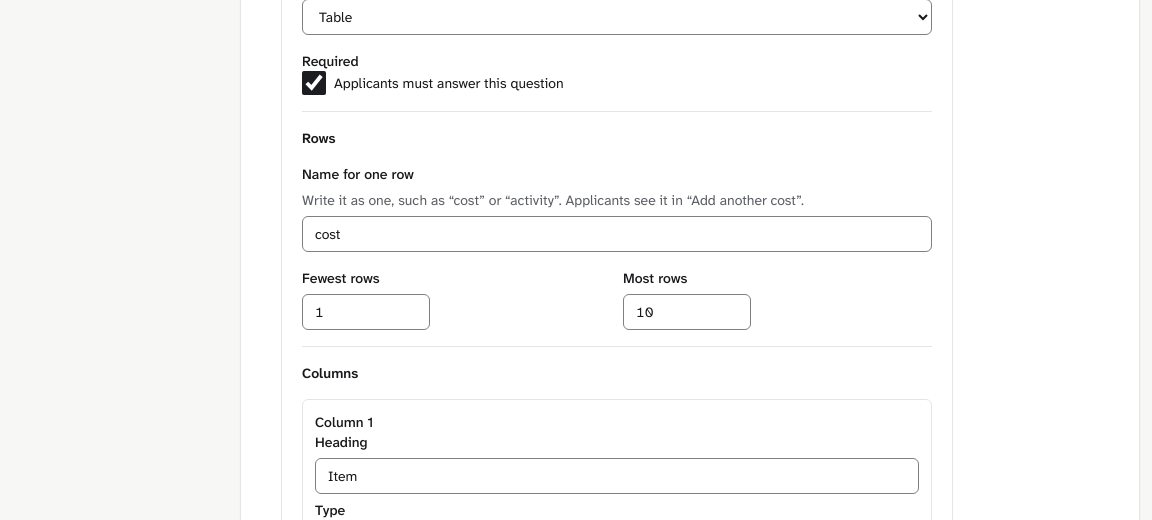
Scenario: the settings of a table › are changed, and sent with the columns under the ids they were made with
This screenshot has width=1152, height=520.
(page scrolled)
Replace the text in the field labelled "Name for one row" with "activity": (617, 234) [302,216,932,252]
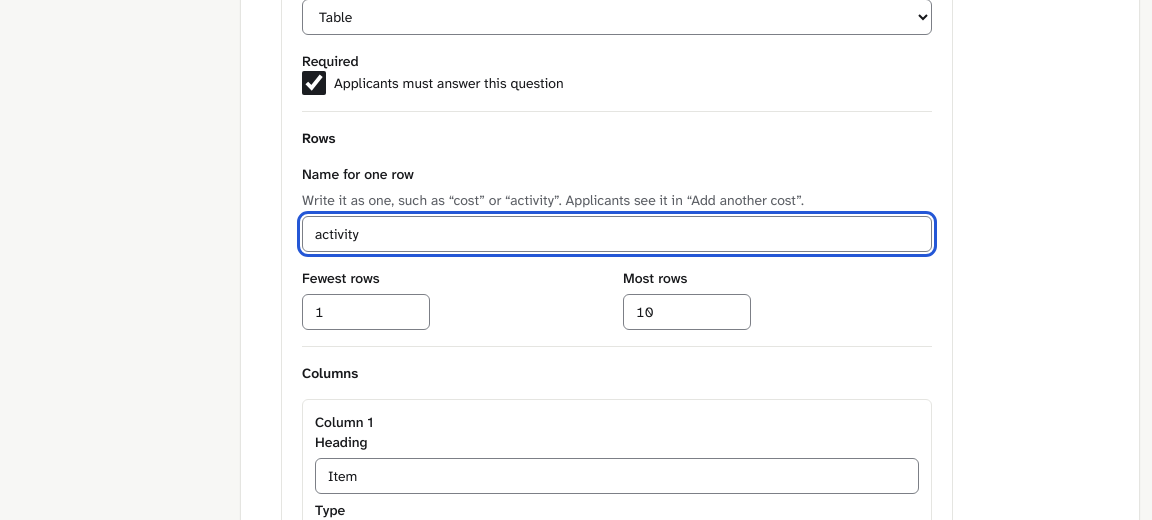
Replace the text in the field labelled "Fewest rows" with "2": (366, 312) [302,294,430,330]
(page scrolled)
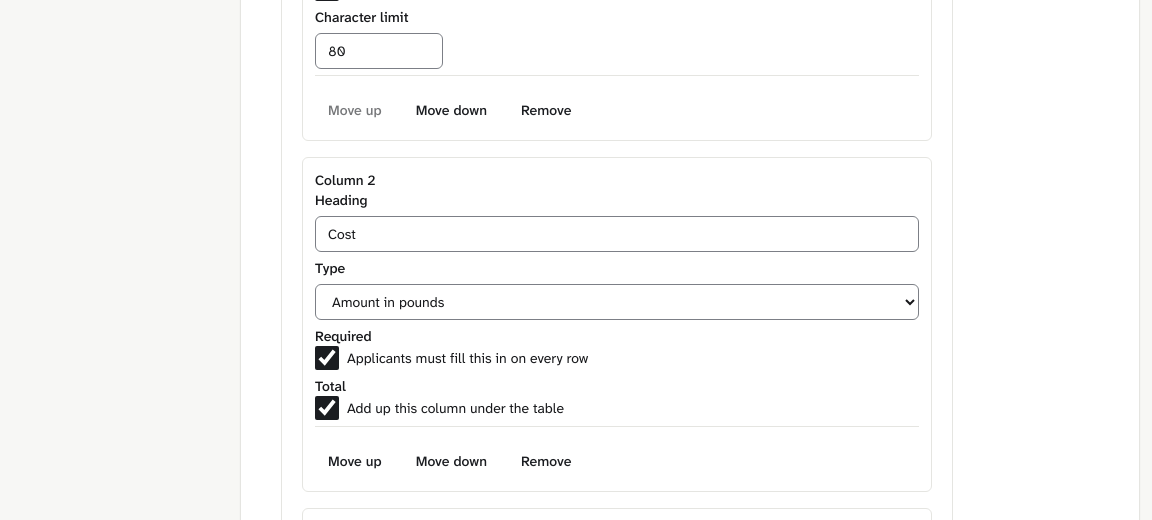
Replace the text in the field labelled "Heading" below "Column 2" with "Price": (617, 234) [315,216,919,252]
(page scrolled)
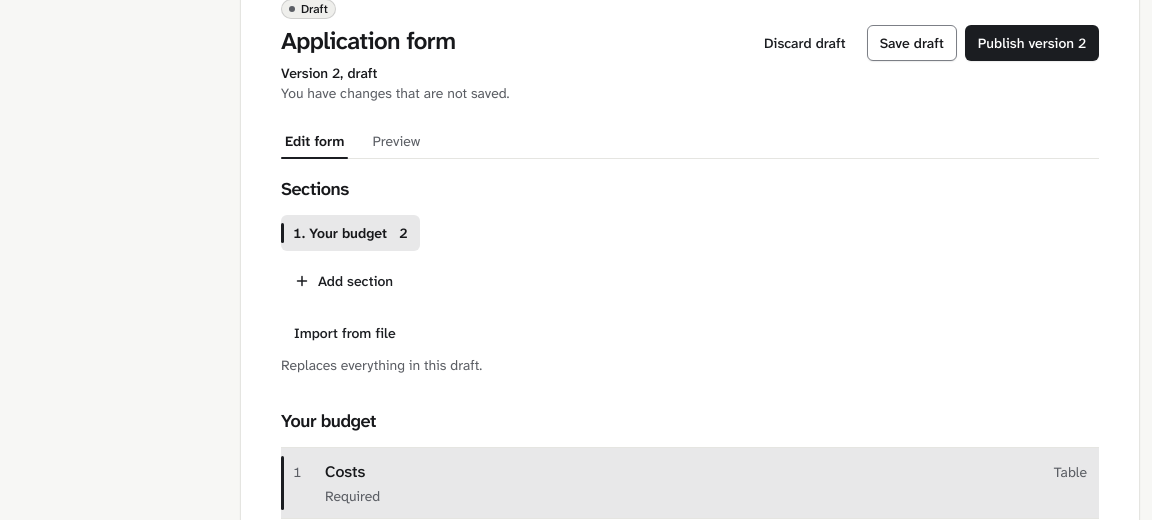
Click the button "Save draft": (912, 43) [867,25,957,61]
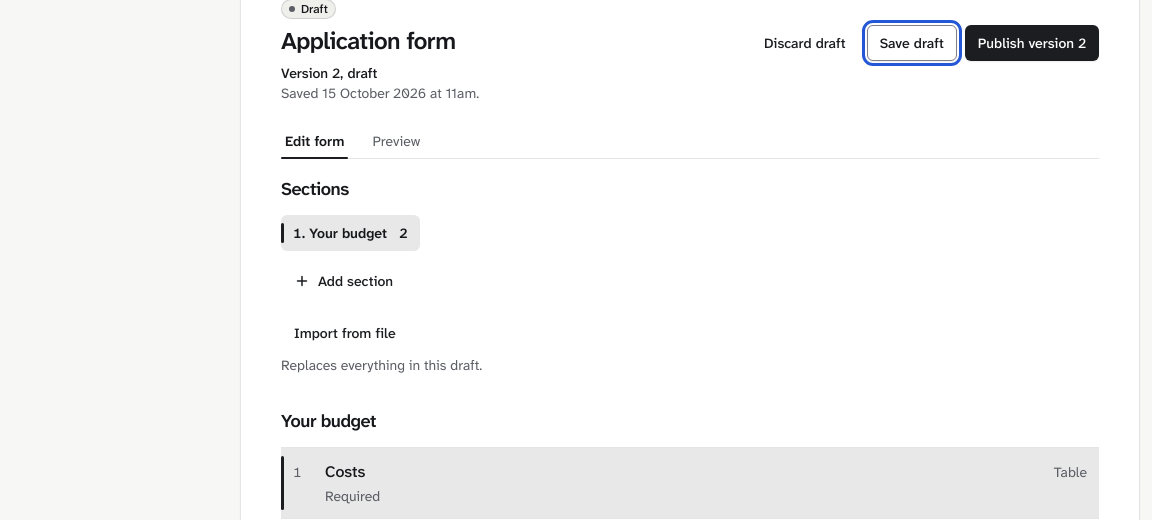
Expected: the text "Saved 15 October 2026 at 11am." is shown, [281,84,479,102]
